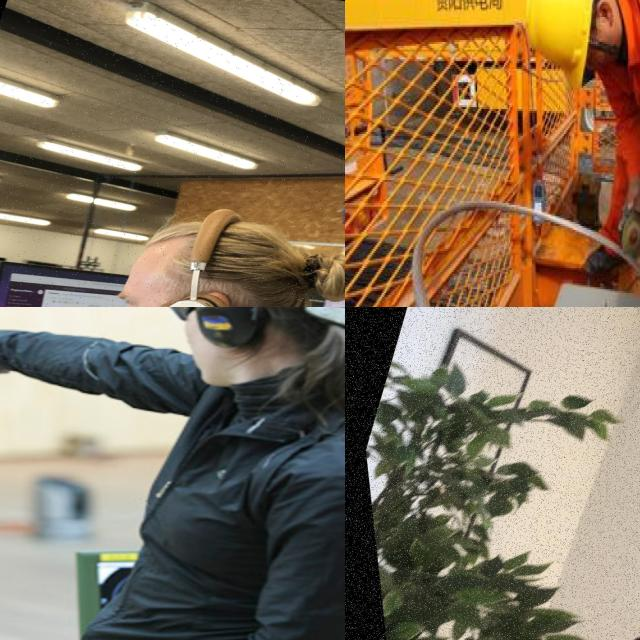Ear-protection: (83, 195, 345, 307), (142, 307, 345, 390)
No_Ear-Protection: (592, 0, 621, 27)
head_helmet: (526, 0, 592, 88)
